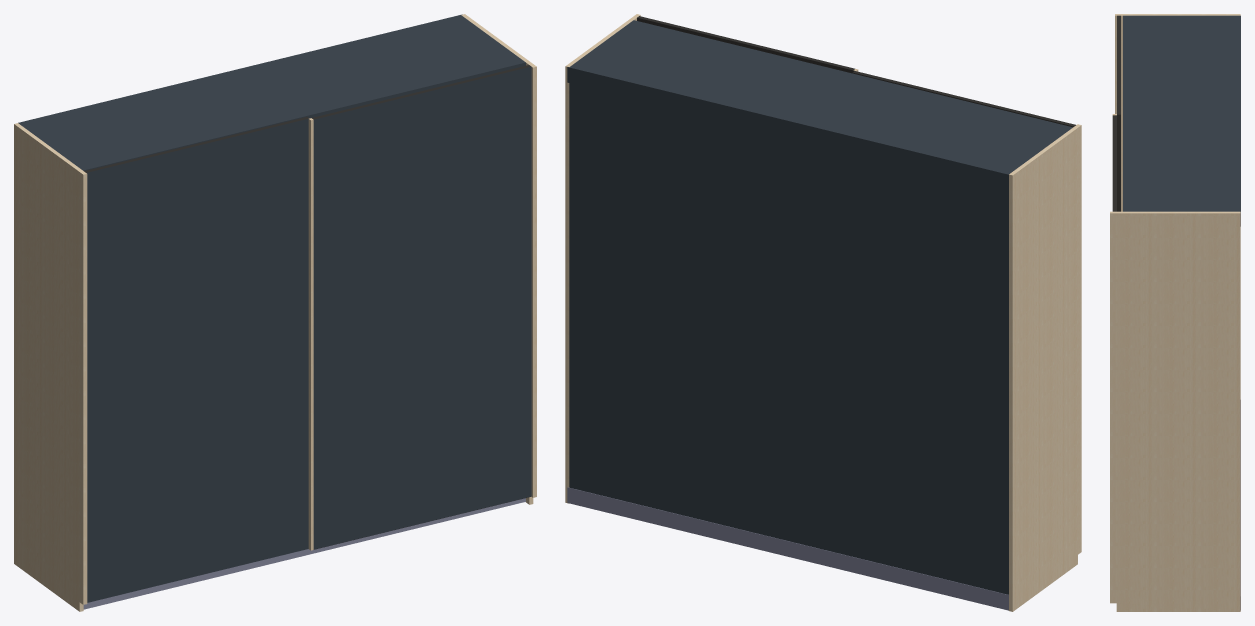
3 views of the same model, side by side, from view 1: azimuth 30°, elevation 25°; view 2: azimuth 150°, elevation 25°; view 3: azimuth 270°, elevation 25° (orthographic). The views are drawn at different scales.
Visible parts, largest first — view 1: C-skpFBE9; view 2: C-skpFBE9; view 3: C-skpFBE9.
Boxes of the visible parts, left/top/right/bottom form: C-skpFBE9: left=14, top=14, right=536, bottom=611; C-skpFBE9: left=565, top=14, right=1081, bottom=611; C-skpFBE9: left=1110, top=14, right=1240, bottom=611.
Bounding box in the file's own units: 2.28 × 2.13 × 0.6332.
Materials: 4 (1 with a texture image).
